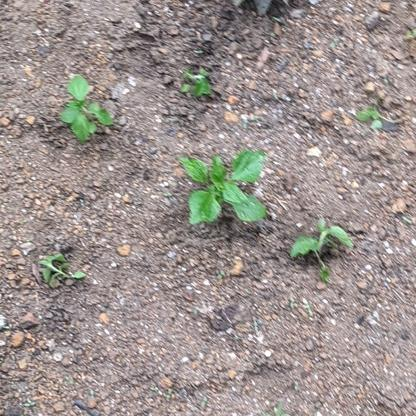weed: (176, 149, 272, 230), (289, 215, 354, 273), (61, 74, 113, 144), (38, 251, 86, 285), (180, 67, 215, 98)
